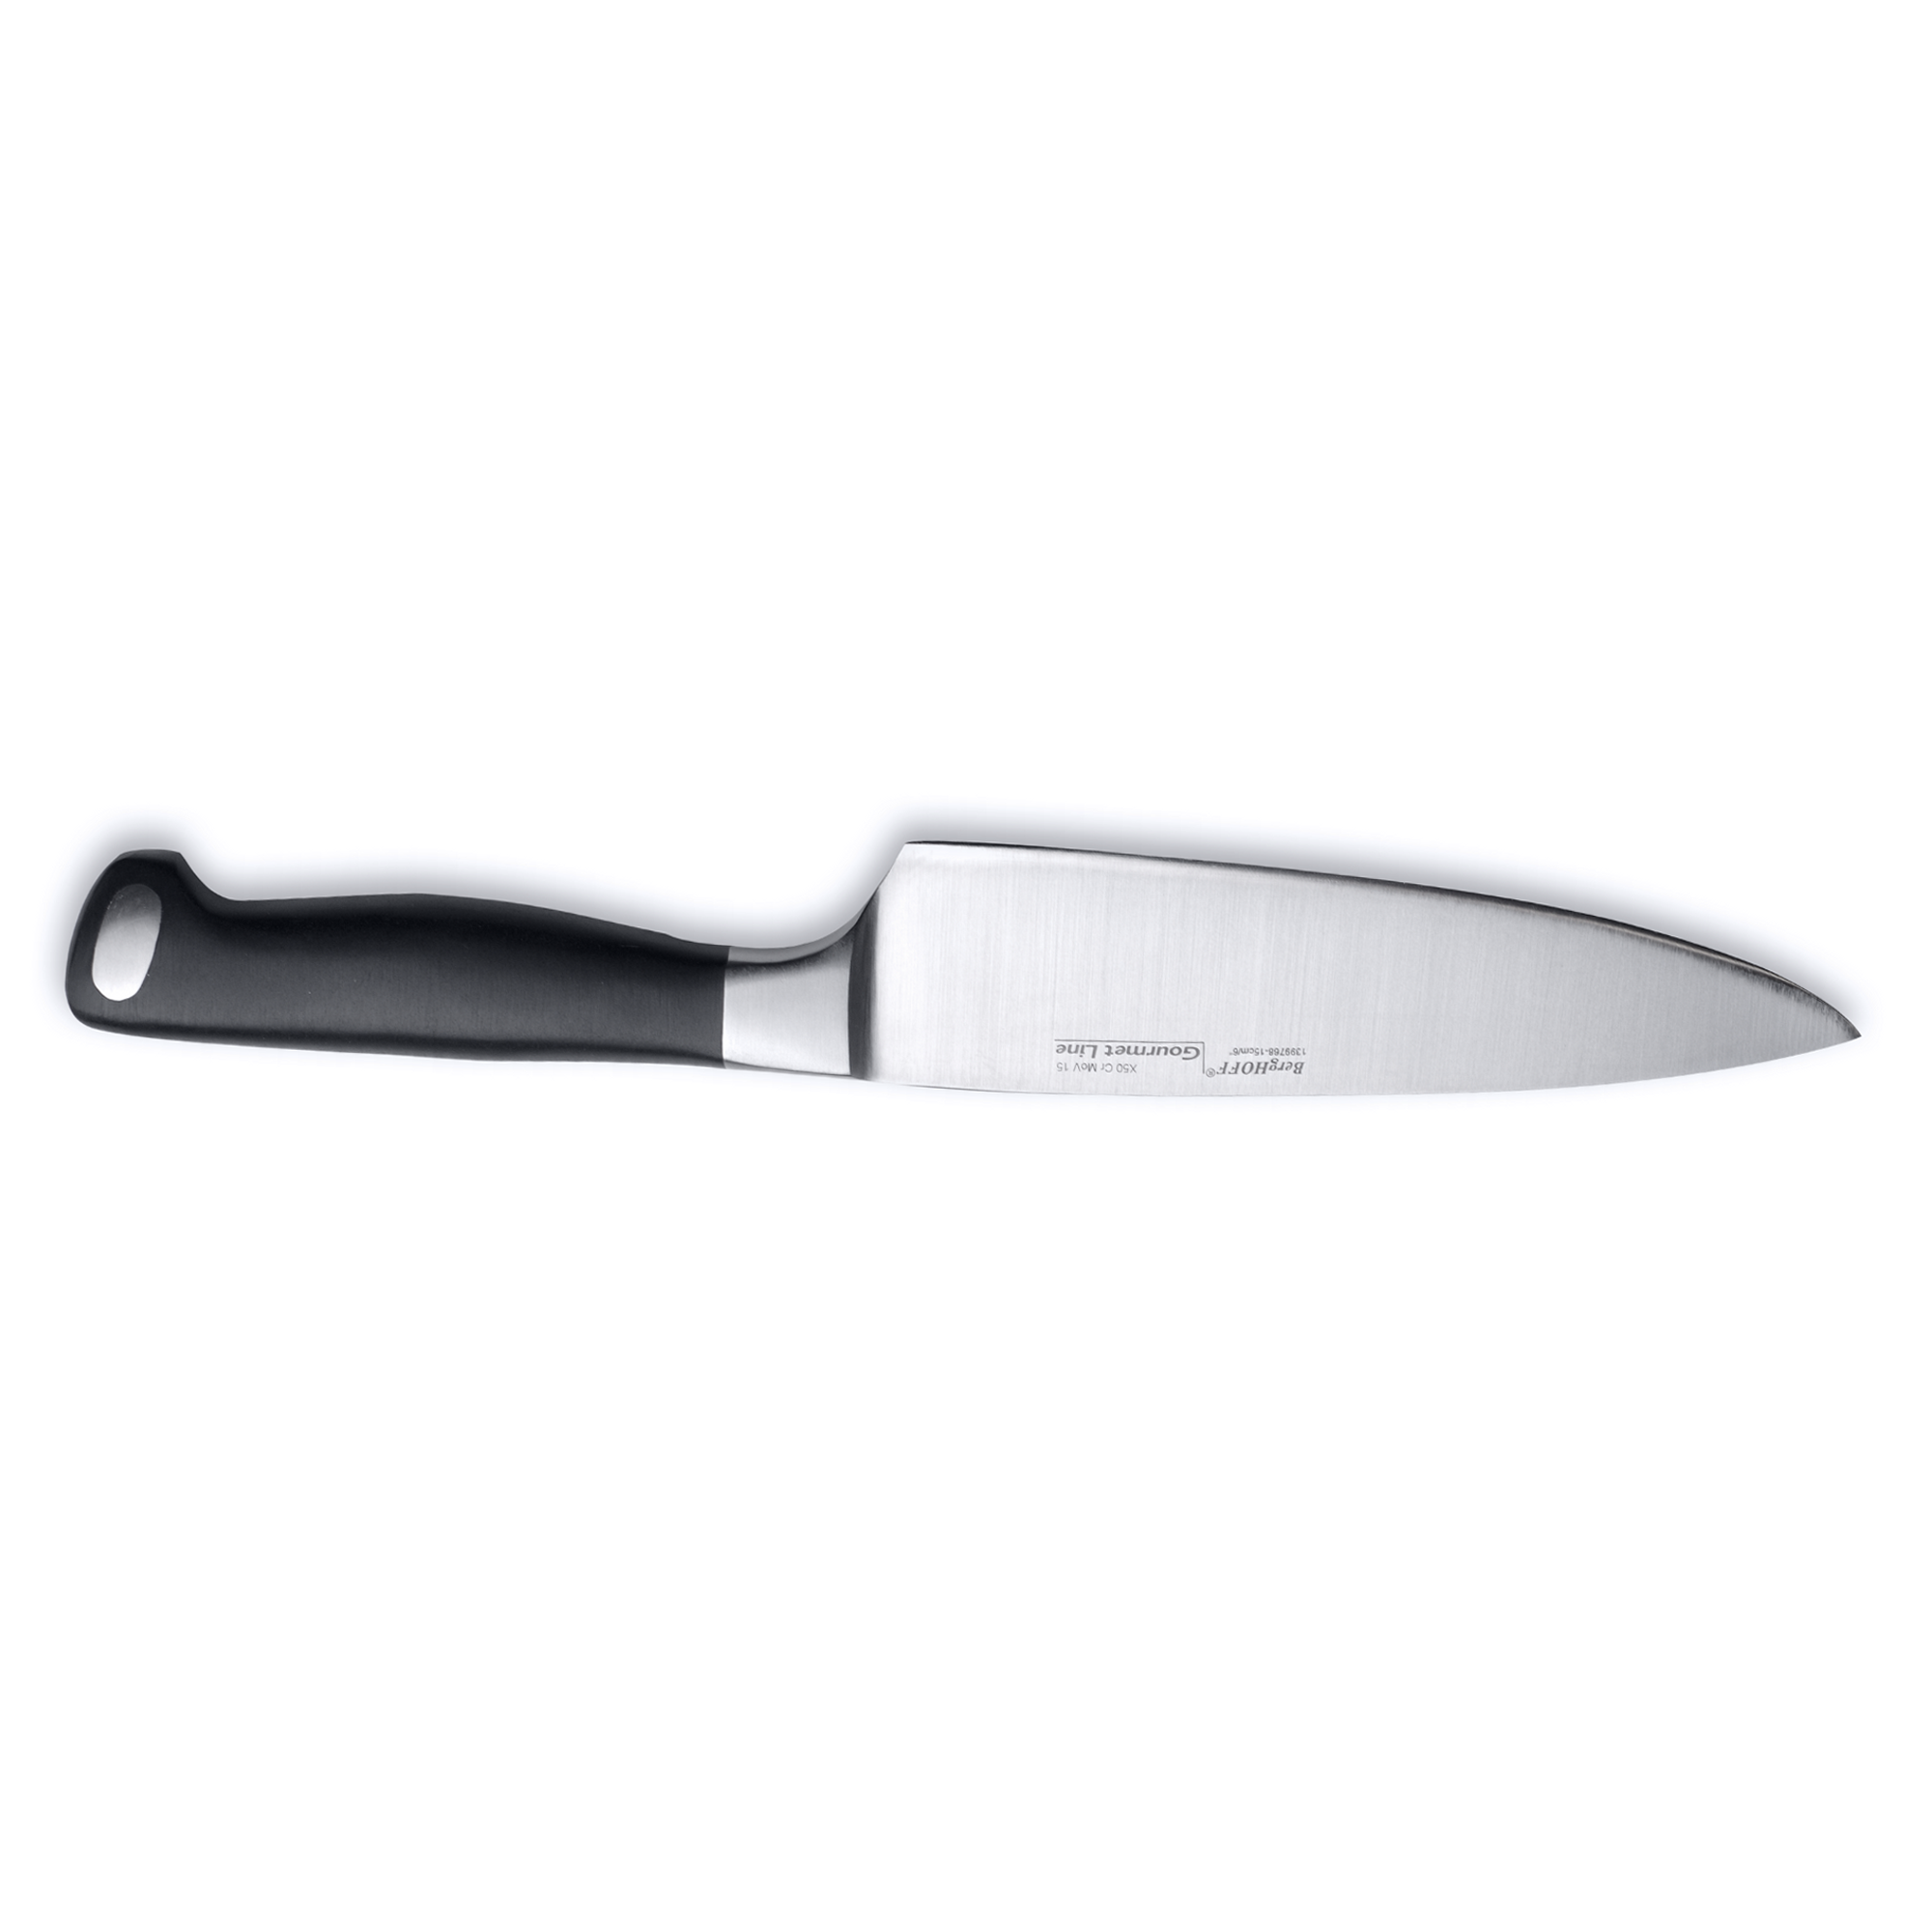knife: (74, 828, 1865, 1099)
